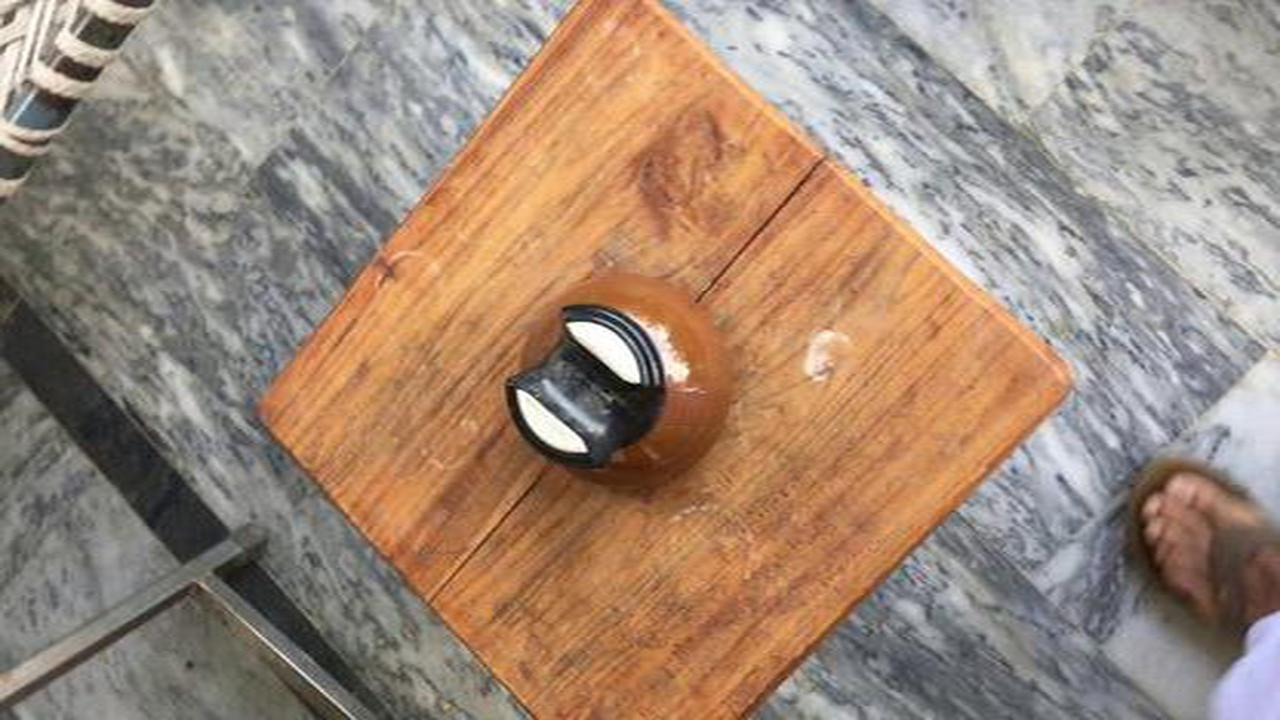insulator_pin: (471, 260, 751, 501)
